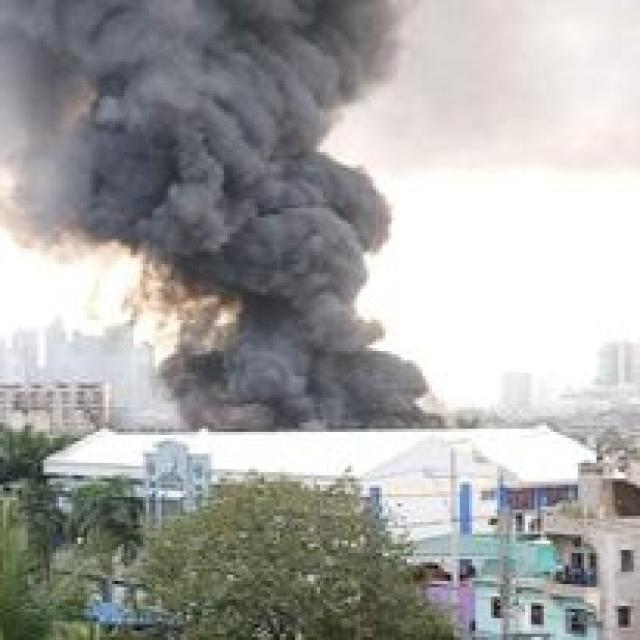Smoke: (0, 0, 404, 256), (165, 245, 428, 428)
